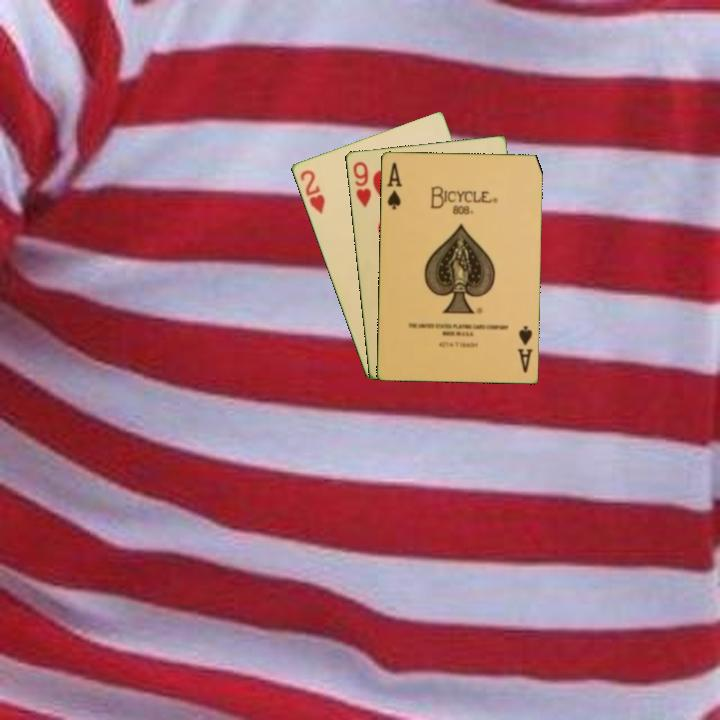2h: (296, 166, 328, 217)
9h: (349, 158, 374, 210)
As: (383, 159, 405, 212), (514, 322, 535, 375)
